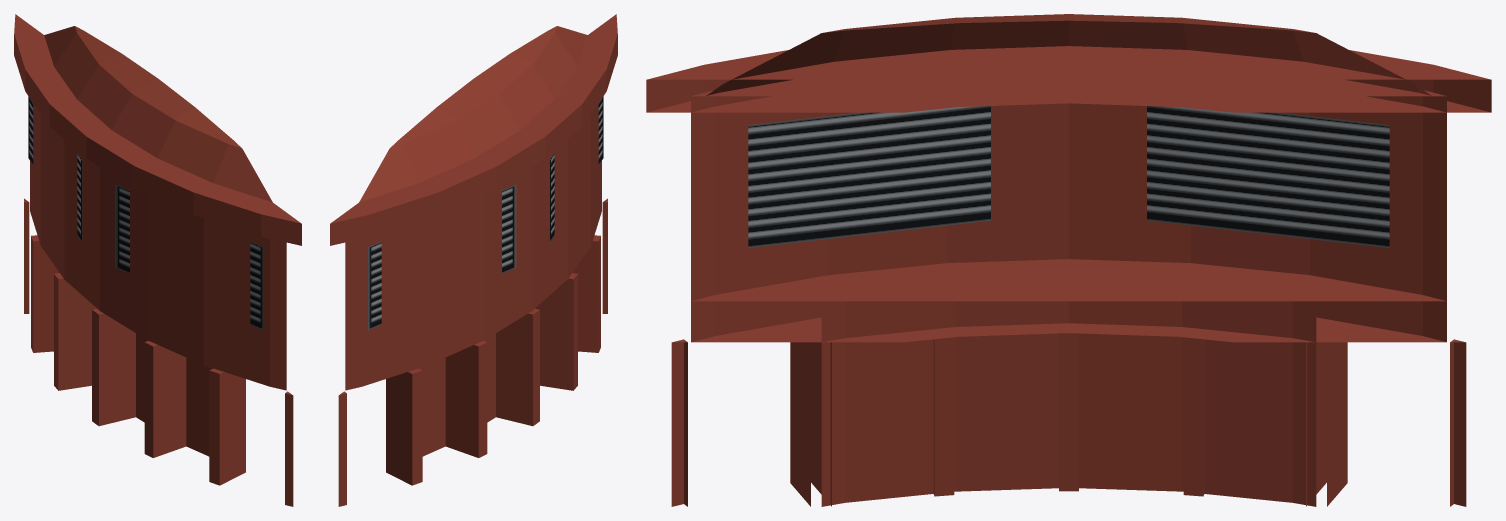
File: cell_94.obj
The picture shows the model from 3 angles, left to right: view 1: azimuth 30°, elevation 25°; view 2: azimuth 150°, elevation 25°; view 3: azimuth 270°, elevation 25°; orthographic projection. The views are drawn at different scales.
Bounding box in the file's own units: 0.1358 × 0.5918 × 0.9324.
